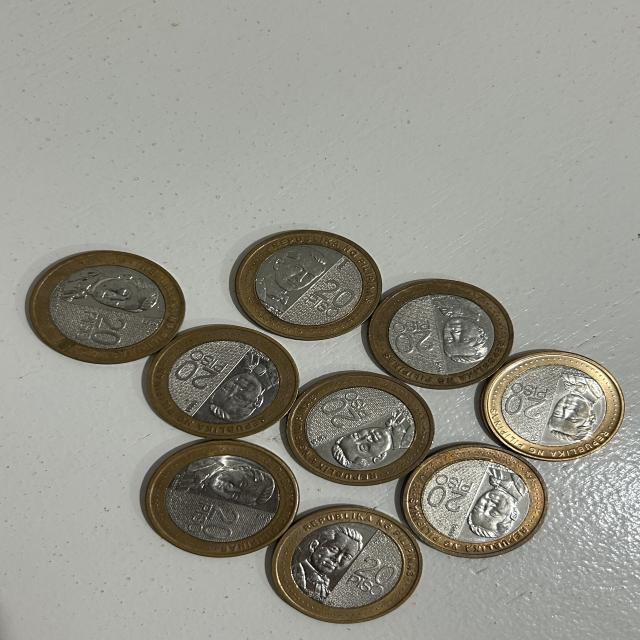20_New_Front: (170, 498, 248, 551), (62, 306, 134, 354), (297, 272, 359, 324), (320, 388, 385, 433), (426, 464, 480, 518), (388, 320, 442, 373), (500, 377, 552, 430), (168, 345, 225, 392), (344, 548, 395, 600)
